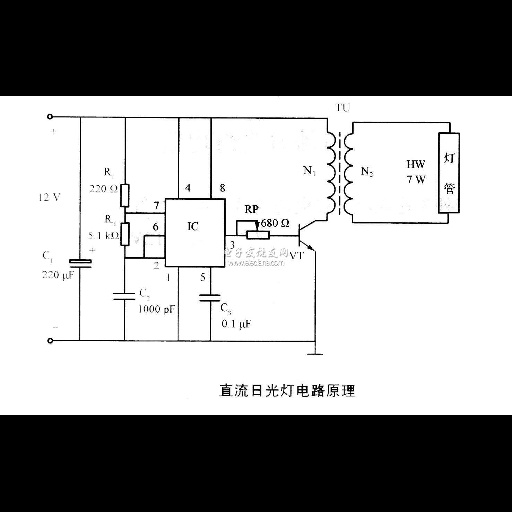capacitor: (111, 288, 137, 305), (198, 290, 221, 304)
firstresistance: (118, 220, 135, 249), (119, 181, 132, 210)
npn: (291, 217, 320, 251)
secondpolarcapacitor: (67, 246, 102, 271)
transformer: (321, 122, 358, 221)
